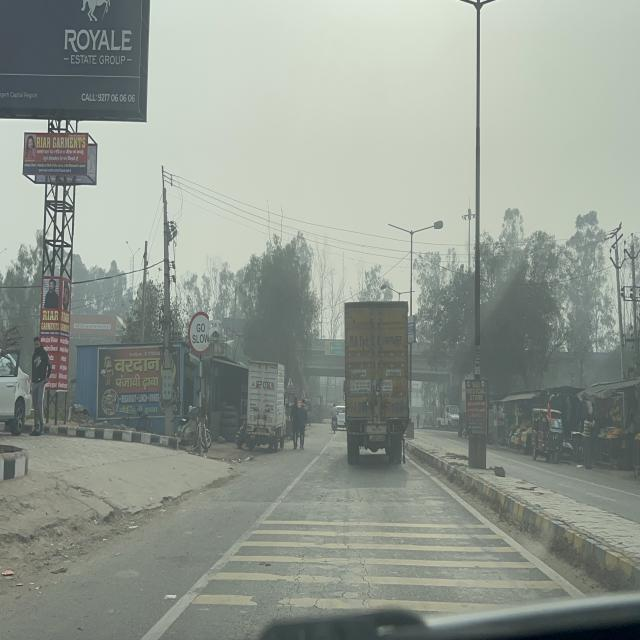GO_SLOW: (188, 311, 209, 355)
PEDESTRIAN_CROSSING: (286, 376, 294, 390)
